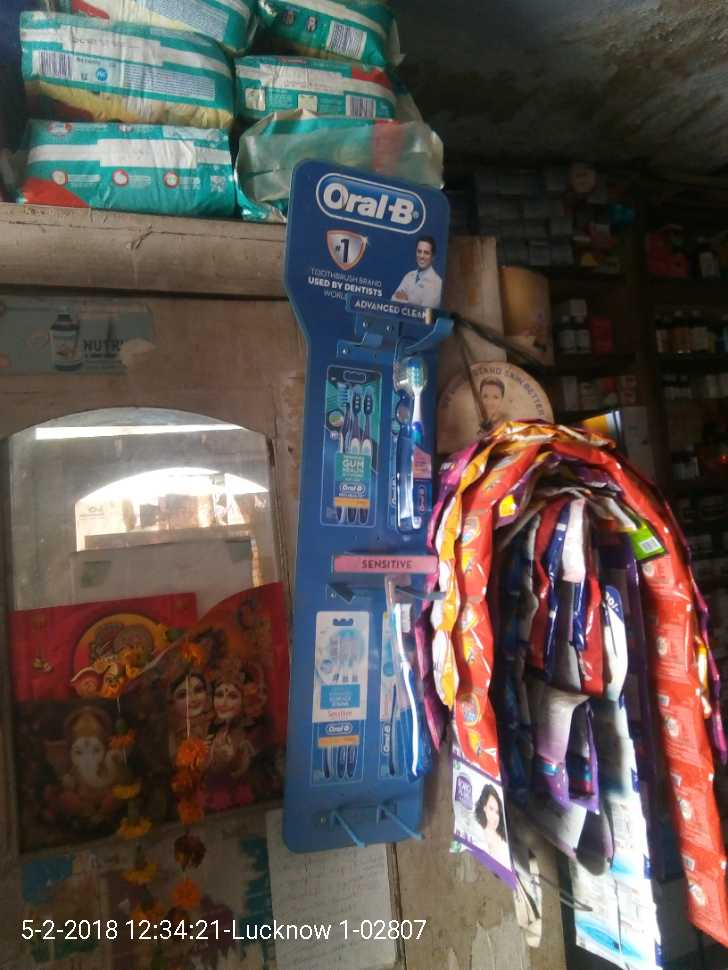pharmacy: (20, 6, 236, 127), (14, 113, 236, 222), (235, 48, 405, 127), (385, 575, 433, 781), (392, 336, 433, 532)
